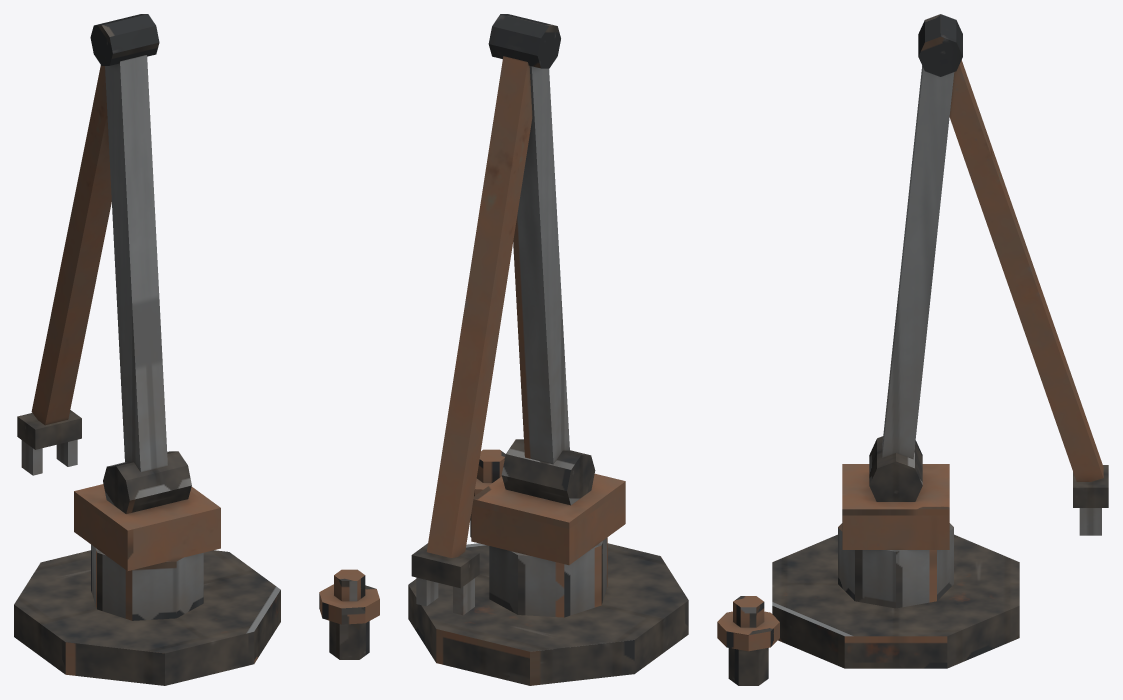
The model's file is braco_longo.glb.
The picture shows the model from 3 angles, left to right: view 1: azimuth 30°, elevation 25°; view 2: azimuth 150°, elevation 25°; view 3: azimuth 270°, elevation 25°; orthographic projection. The views are drawn at different scales.
Parts seen in each view (by area): view 1: braco_longo_base, braco_longo_braco1, braco_longo_giro, braco_longo_braco2, braco_longo_garra; view 2: braco_longo_base, braco_longo_braco2, braco_longo_braco1, braco_longo_giro, braco_longo_garra; view 3: braco_longo_base, braco_longo_braco1, braco_longo_braco2, braco_longo_giro, braco_longo_garra.
Part boxes in pixels (left/top/right/bottom): braco_longo_base: left=14, top=544, right=379, bottom=685; braco_longo_braco1: left=90, top=14, right=167, bottom=472; braco_longo_giro: left=74, top=451, right=220, bottom=570; braco_longo_braco2: left=31, top=65, right=111, bottom=425; braco_longo_garra: left=17, top=410, right=81, bottom=475; braco_longo_base: left=408, top=449, right=688, bottom=685; braco_longo_braco2: left=426, top=56, right=532, bottom=557; braco_longo_braco1: left=488, top=14, right=569, bottom=464; braco_longo_giro: left=471, top=439, right=625, bottom=565; braco_longo_garra: left=411, top=543, right=479, bottom=615; braco_longo_base: left=717, top=523, right=1019, bottom=685; braco_longo_braco1: left=882, top=14, right=962, bottom=459; braco_longo_braco2: left=949, top=60, right=1103, bottom=481; braco_longo_giro: left=842, top=436, right=949, bottom=549; braco_longo_garra: left=1073, top=465, right=1108, bottom=535.
Size of the model in its own units: 0.6772 by 1.46 by 0.876.
1 material, 1 textured.
